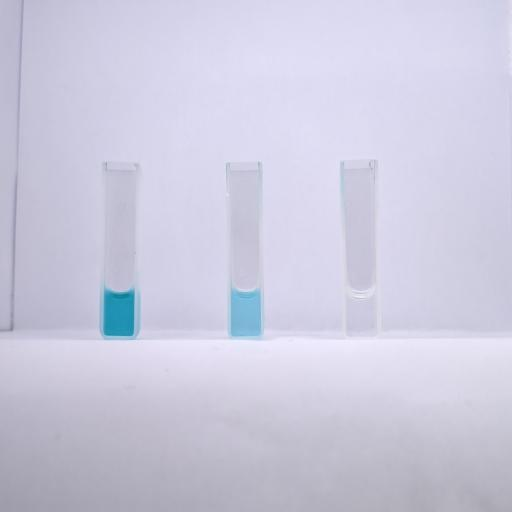cuvette: (339, 158, 382, 340), (224, 160, 266, 340), (99, 161, 141, 340)
liquid: (346, 288, 377, 336), (104, 288, 134, 336), (232, 286, 261, 335)
